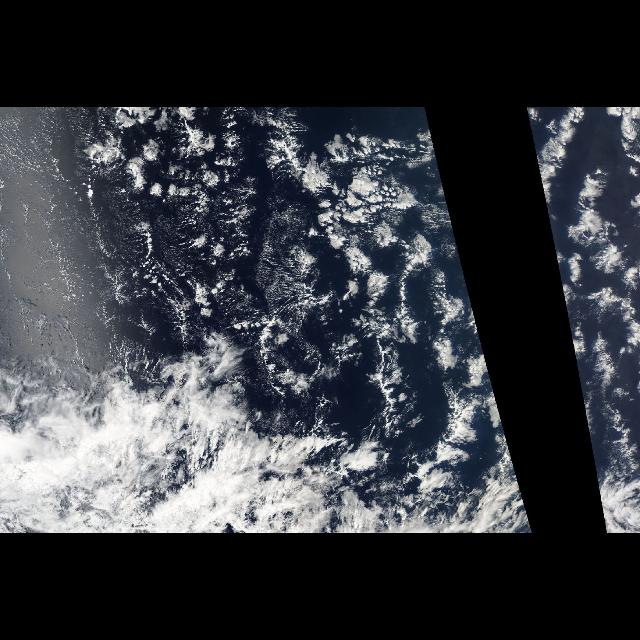Flower: (83, 110, 509, 446), (525, 110, 639, 422)
